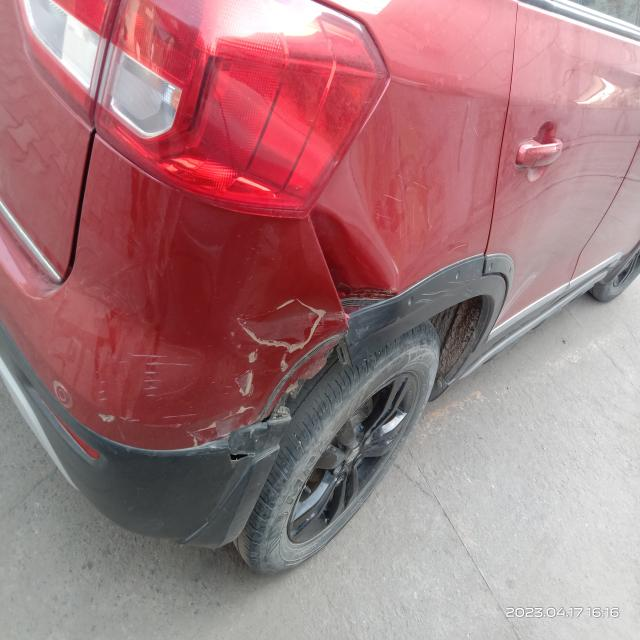damage: (81, 287, 337, 438), (179, 408, 298, 557), (308, 176, 410, 297), (338, 279, 416, 360)
